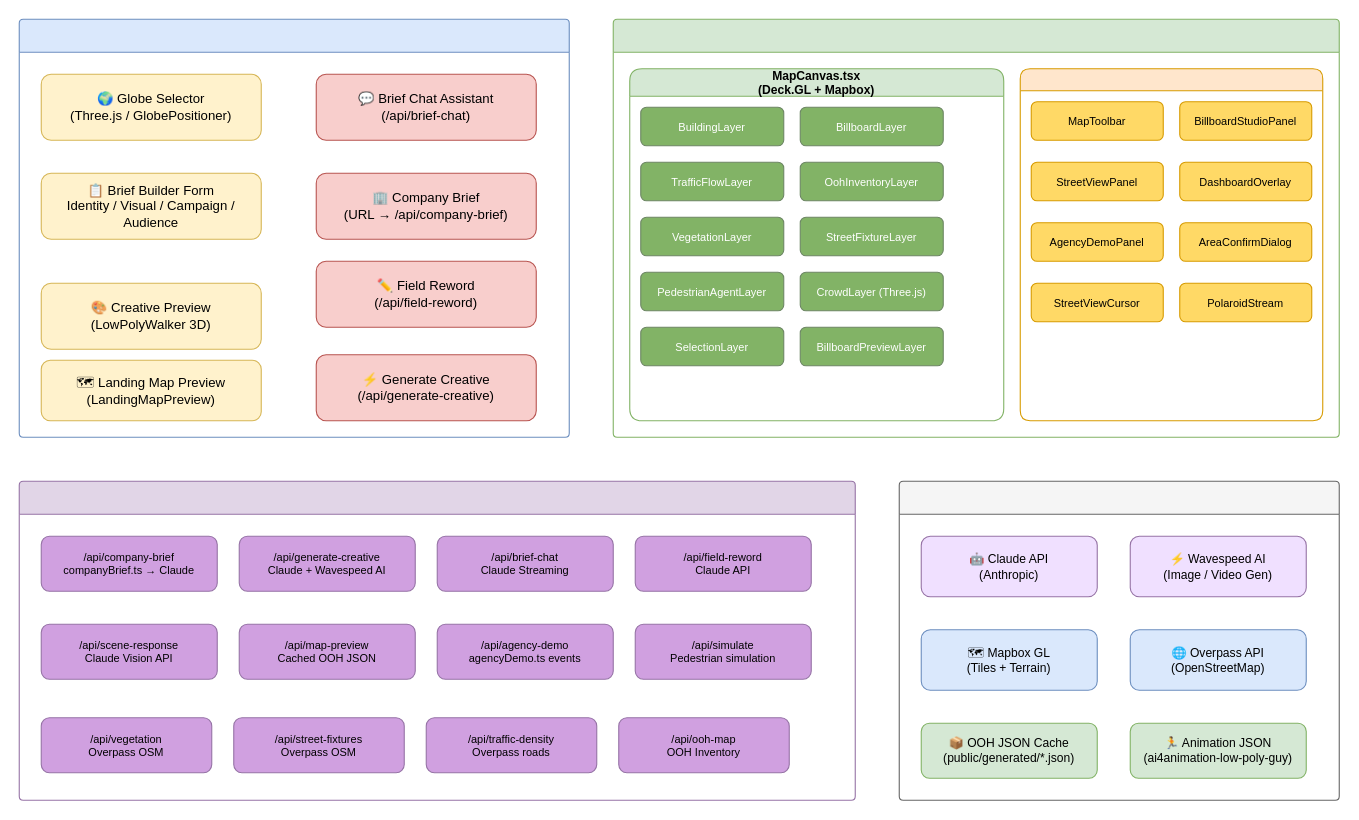
Some shapes in this 1359 by 820 pixel diagram are drawn without their labels. Each missing label, with the box of its shape:
API Routes (Next.js Server): (18, 480, 855, 800)
External Services & Data: (898, 480, 1339, 800)
Landing Page (page.tsx): (18, 18, 569, 437)
Map Page (/map): (612, 18, 1339, 437)
Panels & Overlays: (1019, 68, 1323, 421)
